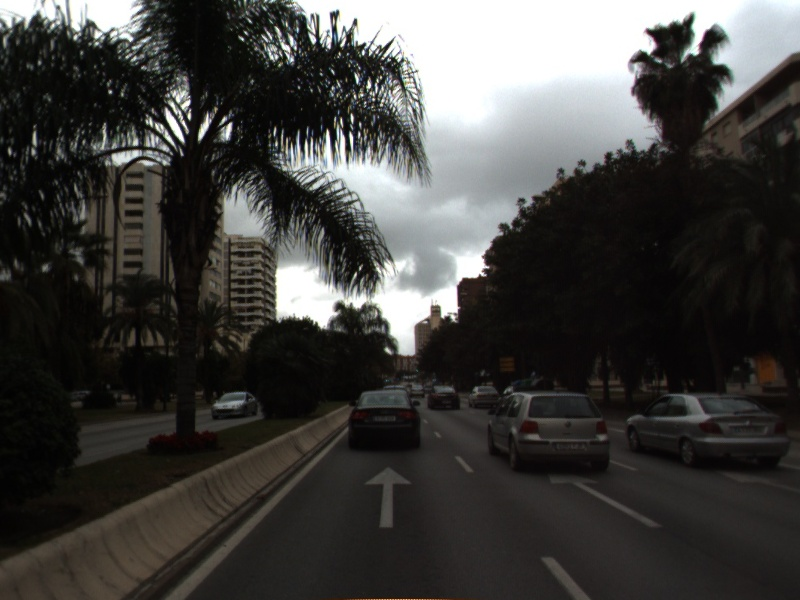STRAIGHT: (545, 469, 667, 531), (361, 464, 415, 530), (714, 465, 800, 495)
